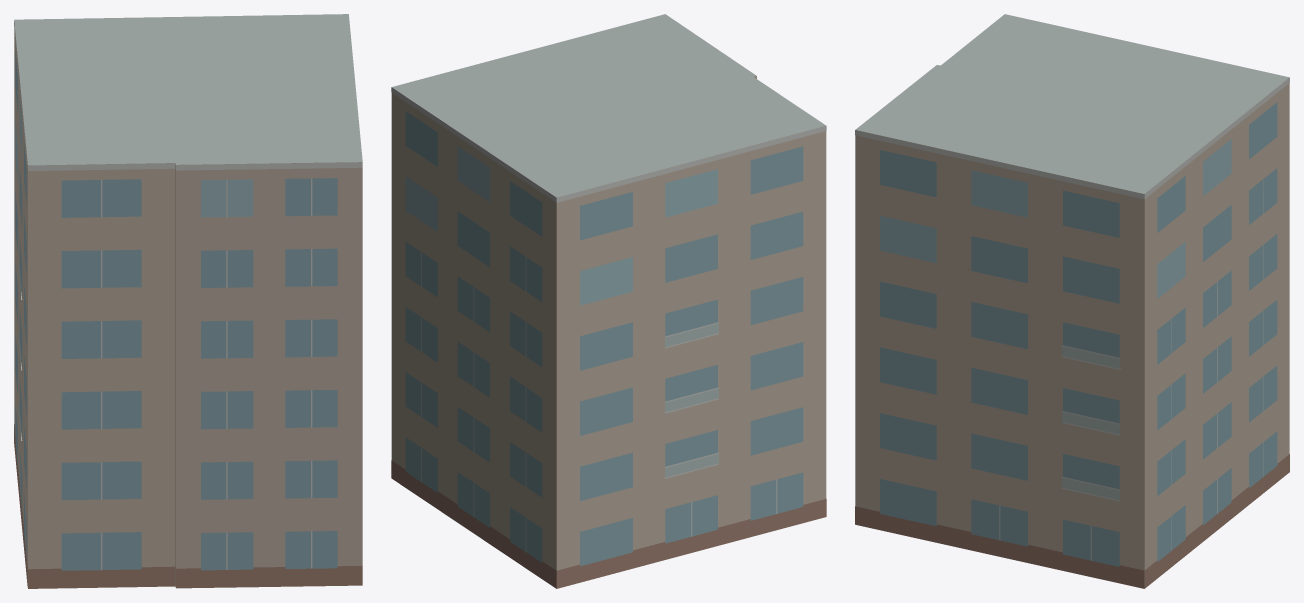
The model's file is survey-upis-33032937.glb.
3 renders of one model, left to right at view 1: azimuth 30°, elevation 25°; view 2: azimuth 150°, elevation 25°; view 3: azimuth 270°, elevation 25°, orthographic. The views are drawn at different scales.
Visible parts, largest first — view 1: survey-upis-33032937.tmp; view 2: survey-upis-33032937.tmp; view 3: survey-upis-33032937.tmp.
Part boxes in pixels (x1,y1,x2,y2): survey-upis-33032937.tmp: [14, 14, 362, 588]; survey-upis-33032937.tmp: [391, 14, 826, 588]; survey-upis-33032937.tmp: [855, 14, 1289, 588].
Bounding box in the file's own units: 17.77 × 18.15 × 18.12.
